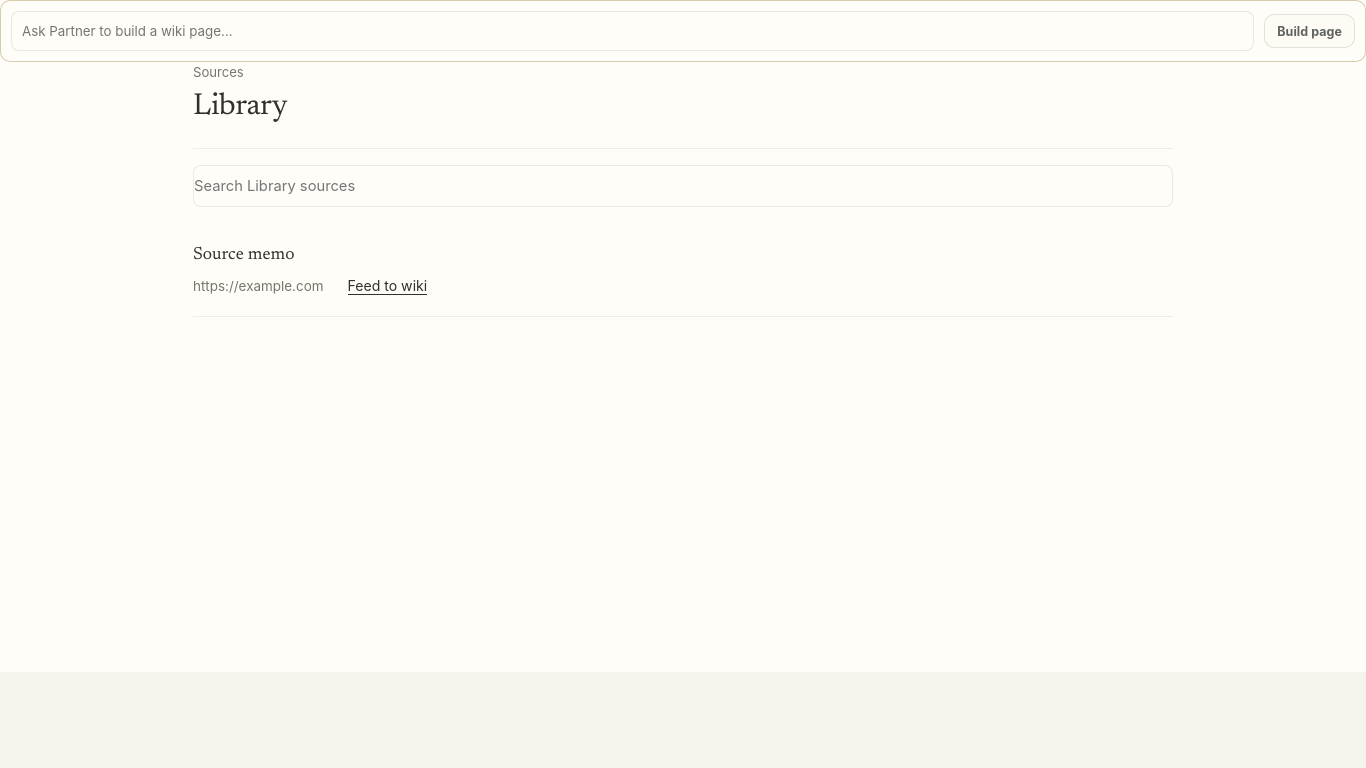
Test: WikiWorkspace › says a source still being read is still being read, not done
The width and height of the screenshot is (1366, 768).
Click the button "Feed to wiki". click: (387,286)
box: [348,278,427,296]
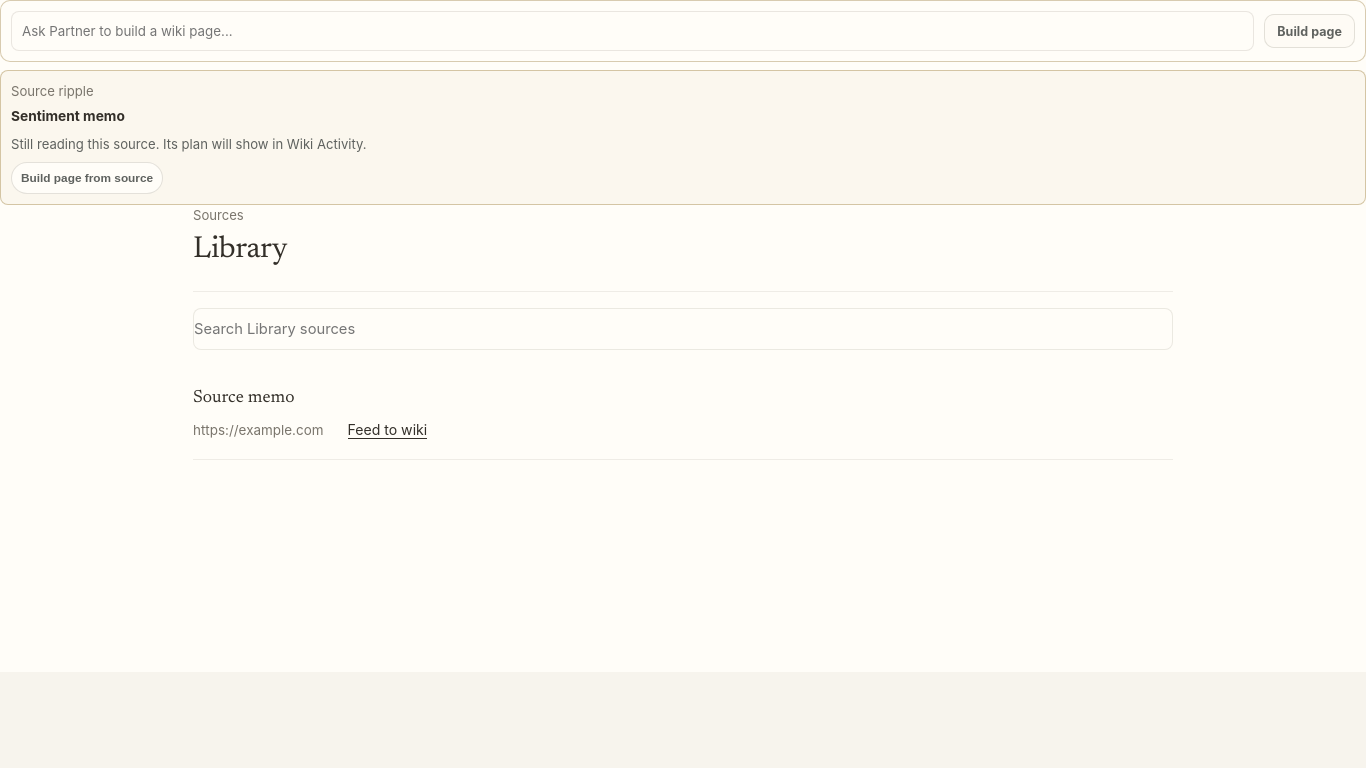
Now the element named "Source ripple result" shows "Still reading this source.", box [11,136,367,152]
